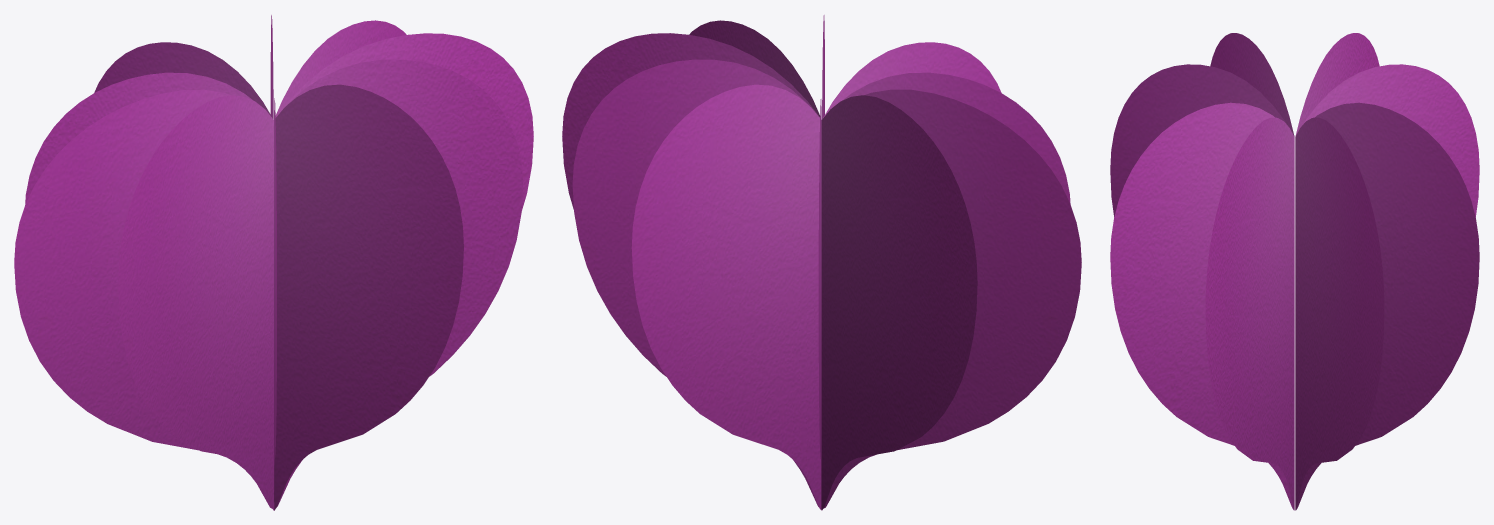
The model's file is heart_obj_b.glb.
3 views of the same model, side by side, from view 1: azimuth 30°, elevation 25°; view 2: azimuth 150°, elevation 25°; view 3: azimuth 270°, elevation 25° (orthographic). The views are drawn at different scales.
Visible parts, largest first — view 1: Curve.009; view 2: Curve.009; view 3: Curve.009.
Part boxes in pixels (box(x1,y1,x2,y2)): Curve.009: box(14, 15, 533, 510); Curve.009: box(562, 15, 1081, 510); Curve.009: box(1110, 33, 1479, 510).
Bounding box in the file's own units: 1.22 × 1 × 0.7879.
Materials: 1 (1 with a texture image).
